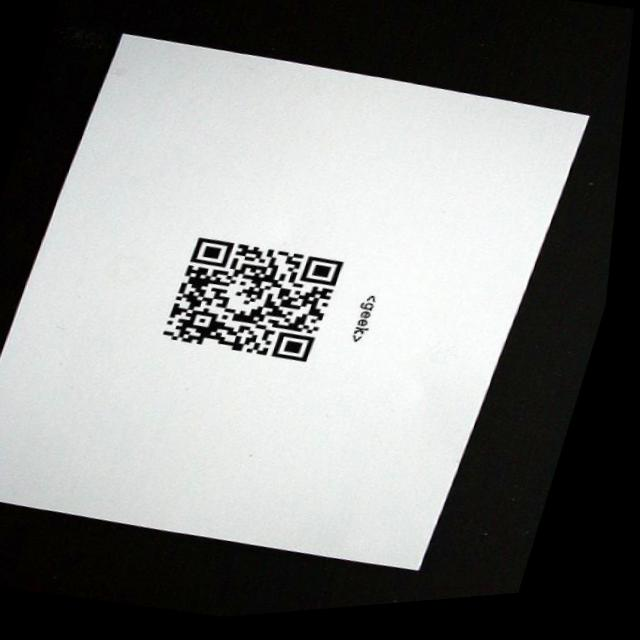qrcode: (167, 232, 352, 378)
